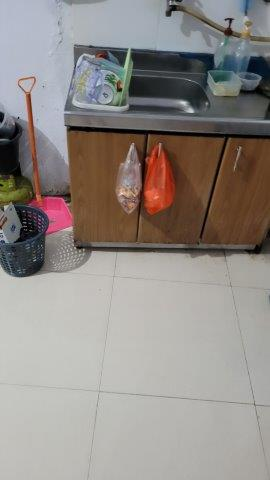plastik: (144, 147, 175, 214), (113, 143, 141, 216)
